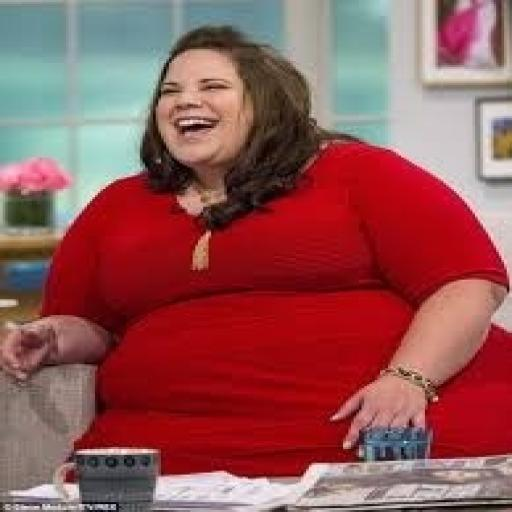laughing: (0, 19, 509, 478)
